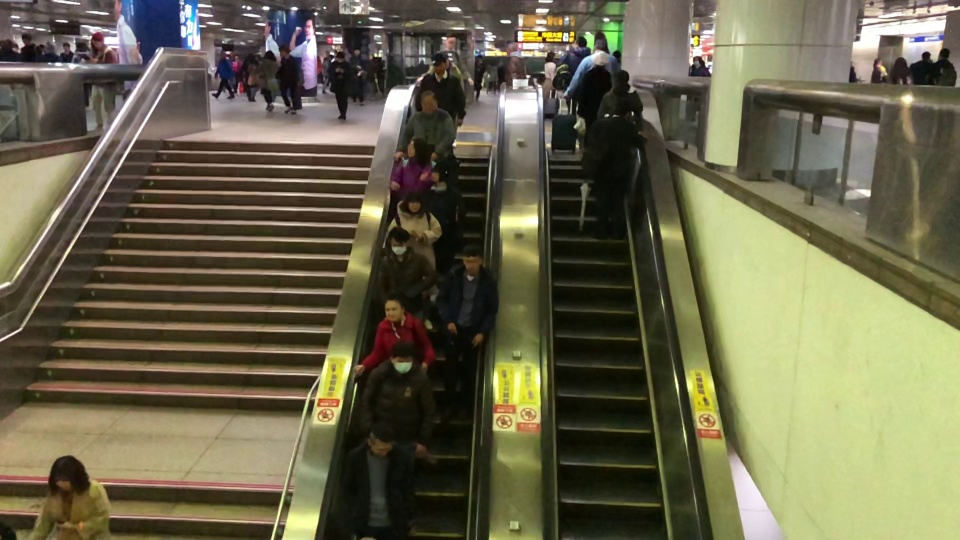person_head: (51, 455, 82, 492), (366, 422, 395, 458), (387, 341, 414, 371), (386, 227, 410, 254), (384, 294, 407, 321), (463, 248, 482, 274), (418, 90, 437, 111), (405, 137, 425, 156), (406, 192, 425, 212), (602, 98, 620, 115), (430, 54, 444, 75), (613, 69, 630, 85), (592, 38, 610, 53), (90, 32, 104, 48), (439, 50, 451, 67), (573, 35, 588, 48), (444, 35, 456, 49), (894, 56, 907, 68), (510, 51, 522, 62), (77, 41, 88, 52), (335, 51, 346, 62), (939, 47, 950, 58), (20, 32, 30, 44), (693, 55, 703, 66), (61, 40, 70, 51), (263, 49, 274, 58), (546, 52, 555, 63), (281, 48, 291, 57), (922, 50, 932, 59), (296, 56, 303, 66), (247, 48, 255, 56), (477, 53, 483, 63), (218, 52, 225, 59), (874, 57, 882, 63), (328, 53, 334, 60), (355, 49, 361, 55)
person_vbox: (340, 420, 425, 540), (579, 98, 649, 238), (379, 192, 439, 329), (23, 455, 119, 540), (443, 246, 487, 422), (372, 340, 430, 466), (352, 293, 437, 377), (415, 35, 475, 147), (414, 55, 469, 164), (393, 91, 463, 163), (562, 39, 625, 118), (379, 227, 436, 311), (88, 32, 124, 130), (593, 69, 645, 125), (389, 138, 431, 199), (551, 35, 588, 91), (687, 55, 712, 121), (275, 48, 297, 116), (257, 49, 279, 115), (330, 51, 350, 121), (437, 49, 468, 91), (238, 47, 260, 104), (348, 49, 368, 107), (212, 53, 236, 100), (500, 51, 530, 84), (911, 51, 936, 86), (934, 47, 955, 88), (541, 52, 557, 101), (470, 53, 485, 104), (888, 57, 910, 89), (19, 32, 42, 60), (295, 56, 306, 110), (320, 53, 333, 95), (872, 57, 889, 85), (71, 42, 91, 63), (846, 65, 867, 85), (61, 41, 75, 62)
